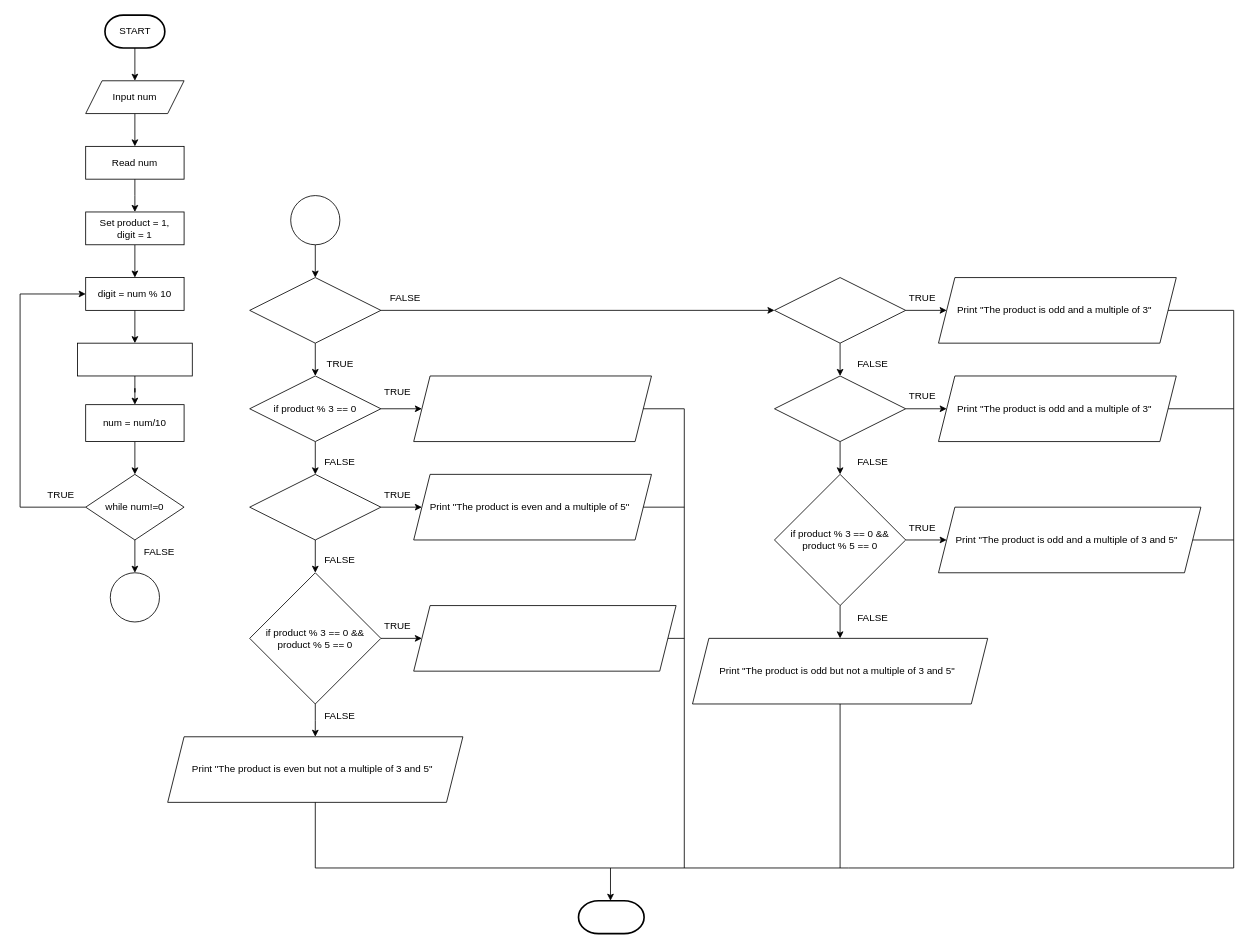
Image size: 1249x948. Some labels were removed from this diagram. Here are the shapes that lost their labels. From the top down, the centre of each, then its label:
point 315,310: if product % 2 == 0
point 840,310: if product % 3 ==0
point 134,359: product = digit * product
point 532,408: Print "The product is even and a multiple of 3"
point 840,408: if product % 5 ==0
point 315,507: if product % 5 == 0
point 544,638: Print "The product is even and a multiple of 3 and 5"
point 611,917: END
